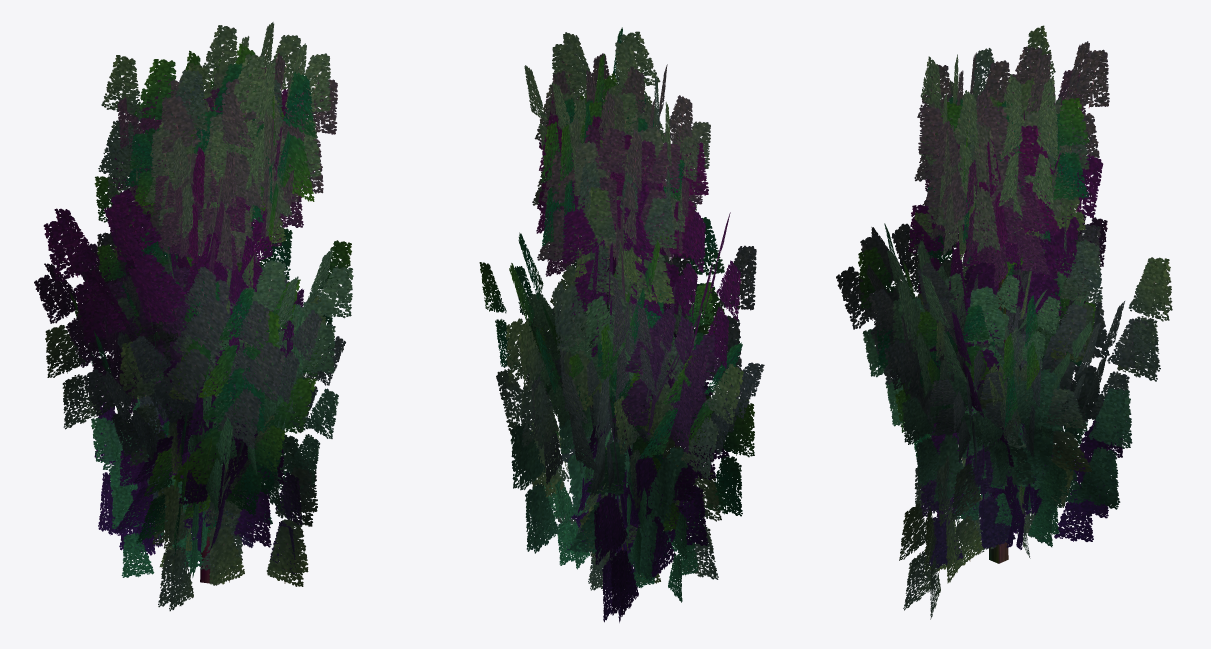
File: nat_cypress_a_LOD2.glb
The picture shows the model from 3 angles, left to right: view 1: azimuth 30°, elevation 25°; view 2: azimuth 150°, elevation 25°; view 3: azimuth 270°, elevation 25°; orthographic projection. The views are drawn at different scales.
Visible parts, largest first — view 1: nat_cypress_a_LOD2; view 2: nat_cypress_a_LOD2; view 3: nat_cypress_a_LOD2.
Part boxes in pixels (x1=…): nat_cypress_a_LOD2: x1=34, y1=22, x2=353, y2=611; nat_cypress_a_LOD2: x1=479, y1=27, x2=764, y2=622; nat_cypress_a_LOD2: x1=836, y1=25, x2=1172, y2=619.
Bounding box in the file's own units: 6.93 × 11.65 × 7.3.
2 materials, 2 textured.
